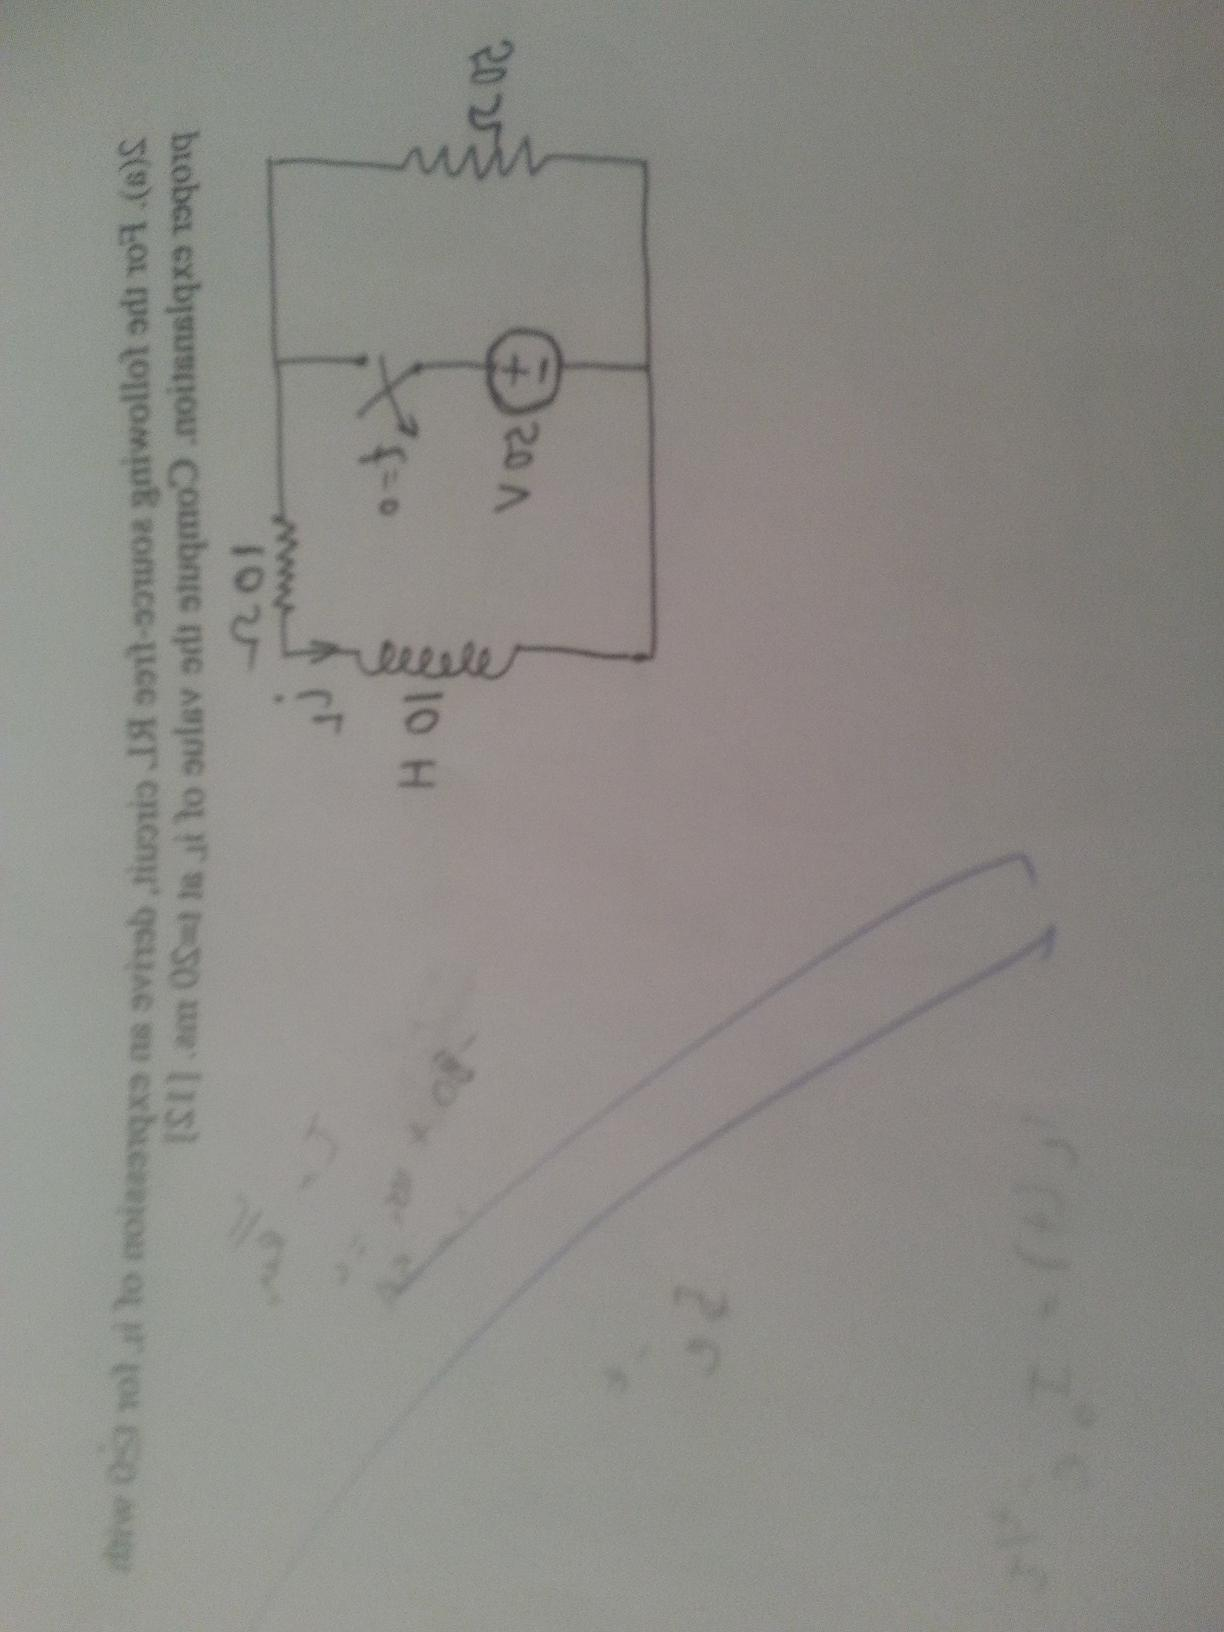Battery: (462, 283, 598, 420)
